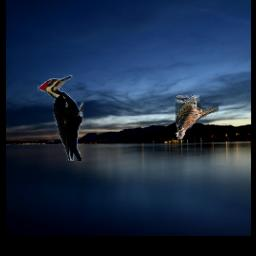Sparrow: (175, 95, 218, 140)
Woodpecker: (37, 74, 83, 161)
